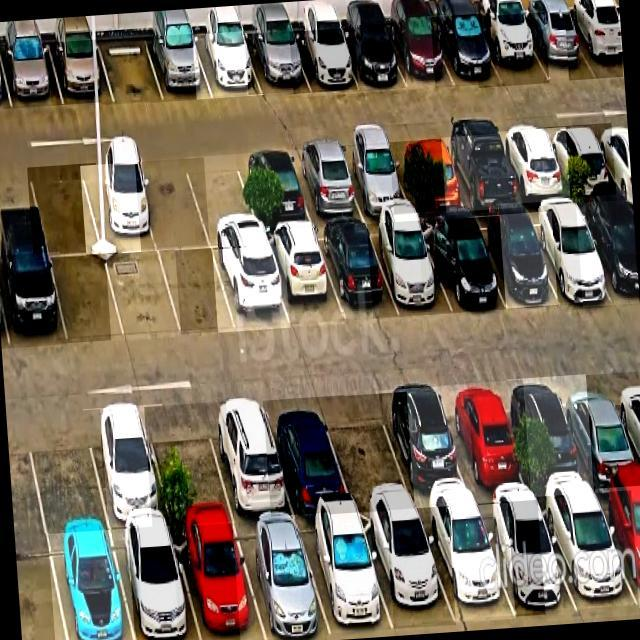empty: (320, 394, 414, 508), (144, 407, 234, 525), (24, 410, 108, 533), (184, 154, 262, 247), (135, 160, 210, 251), (27, 165, 101, 255), (105, 252, 181, 339), (159, 249, 236, 334), (50, 256, 124, 343), (97, 37, 164, 102)
occupied: (537, 493, 639, 618), (297, 513, 394, 640), (376, 387, 475, 508), (233, 520, 330, 640), (478, 500, 577, 616), (418, 505, 515, 622), (359, 511, 456, 628), (171, 523, 266, 640), (439, 382, 531, 502), (204, 397, 294, 519), (507, 378, 594, 497), (263, 398, 352, 514), (84, 407, 170, 527), (112, 526, 200, 640), (557, 376, 640, 491), (48, 530, 134, 640), (524, 204, 613, 302), (469, 214, 557, 308), (419, 218, 506, 313), (263, 228, 343, 327), (316, 224, 399, 319), (367, 221, 452, 313), (80, 162, 157, 254), (213, 246, 289, 330), (576, 202, 639, 303), (0, 254, 66, 348), (441, 134, 521, 210), (236, 150, 312, 228), (289, 147, 364, 222), (595, 486, 640, 608), (497, 128, 570, 202), (338, 144, 413, 216), (474, 14, 549, 86), (390, 139, 466, 210), (517, 12, 596, 79), (545, 125, 616, 197), (431, 16, 502, 86), (385, 17, 454, 88), (336, 23, 406, 90), (145, 35, 212, 100), (193, 35, 262, 98), (48, 39, 113, 104), (289, 30, 358, 91), (564, 8, 623, 77), (0, 43, 62, 108), (244, 32, 309, 93)
